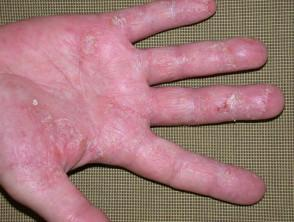Eczema: (55, 116, 128, 160), (6, 127, 53, 180), (63, 21, 116, 64), (198, 87, 273, 116), (206, 43, 256, 68), (163, 1, 210, 16), (23, 91, 51, 111), (218, 166, 237, 189)
